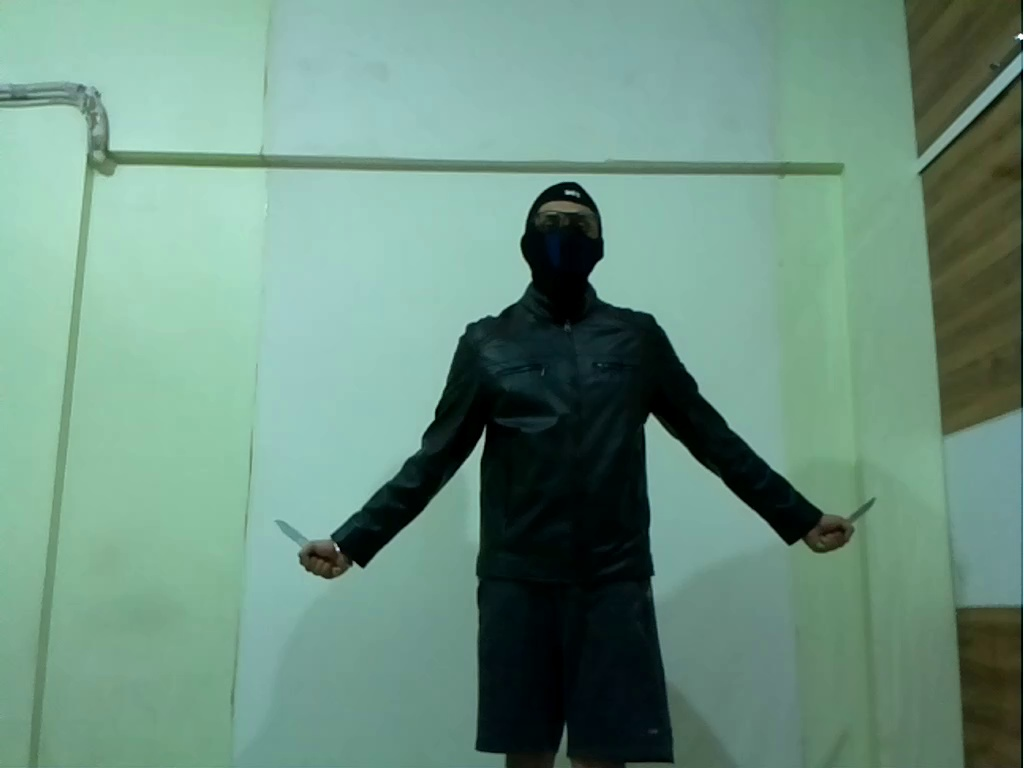knife: (835, 494, 885, 529), (274, 512, 313, 550)
